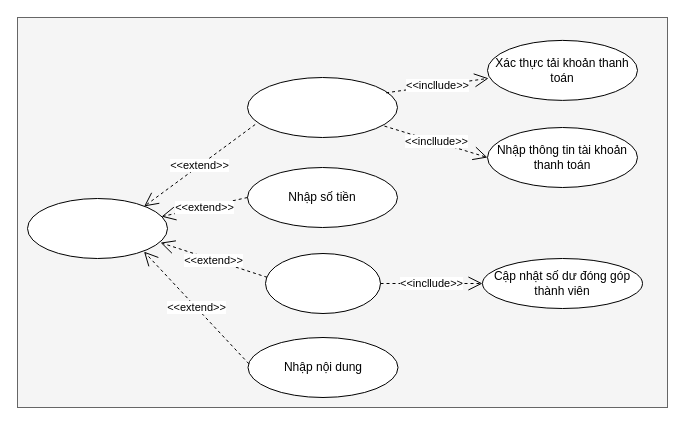
Some shapes in this 685 by 425 pixel diagram are drawn without their labels. The centre of each missing label's shape, as x and y in pixels:
"Cập nhật số dư quỹ nhóm" goes at point 322,283.
"Nộp tiền vào quỹ" goes at point 97,228.
"Thanh toán tự động qua VNPay" goes at point 322,107.
